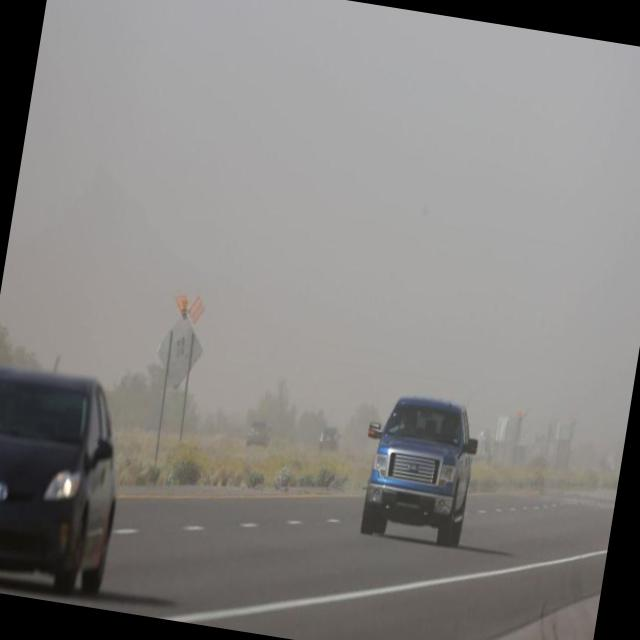car: (0, 357, 141, 605), (357, 388, 490, 550)
